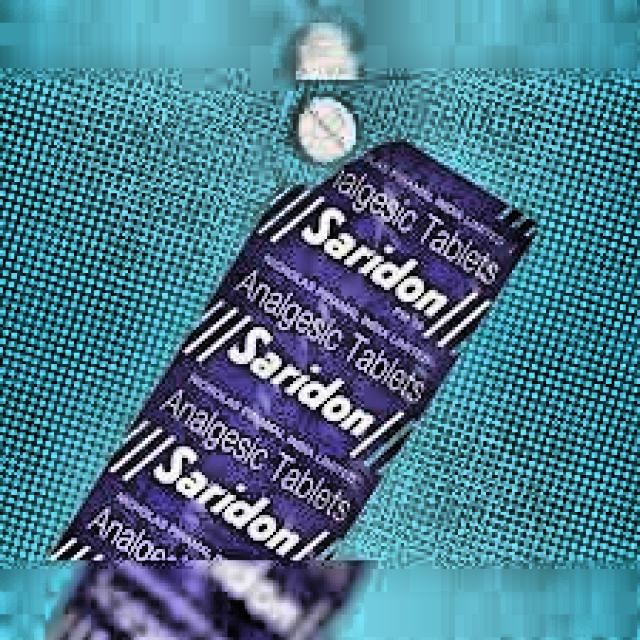Saridon: (308, 199, 448, 363), (130, 449, 303, 571), (234, 327, 368, 474)
